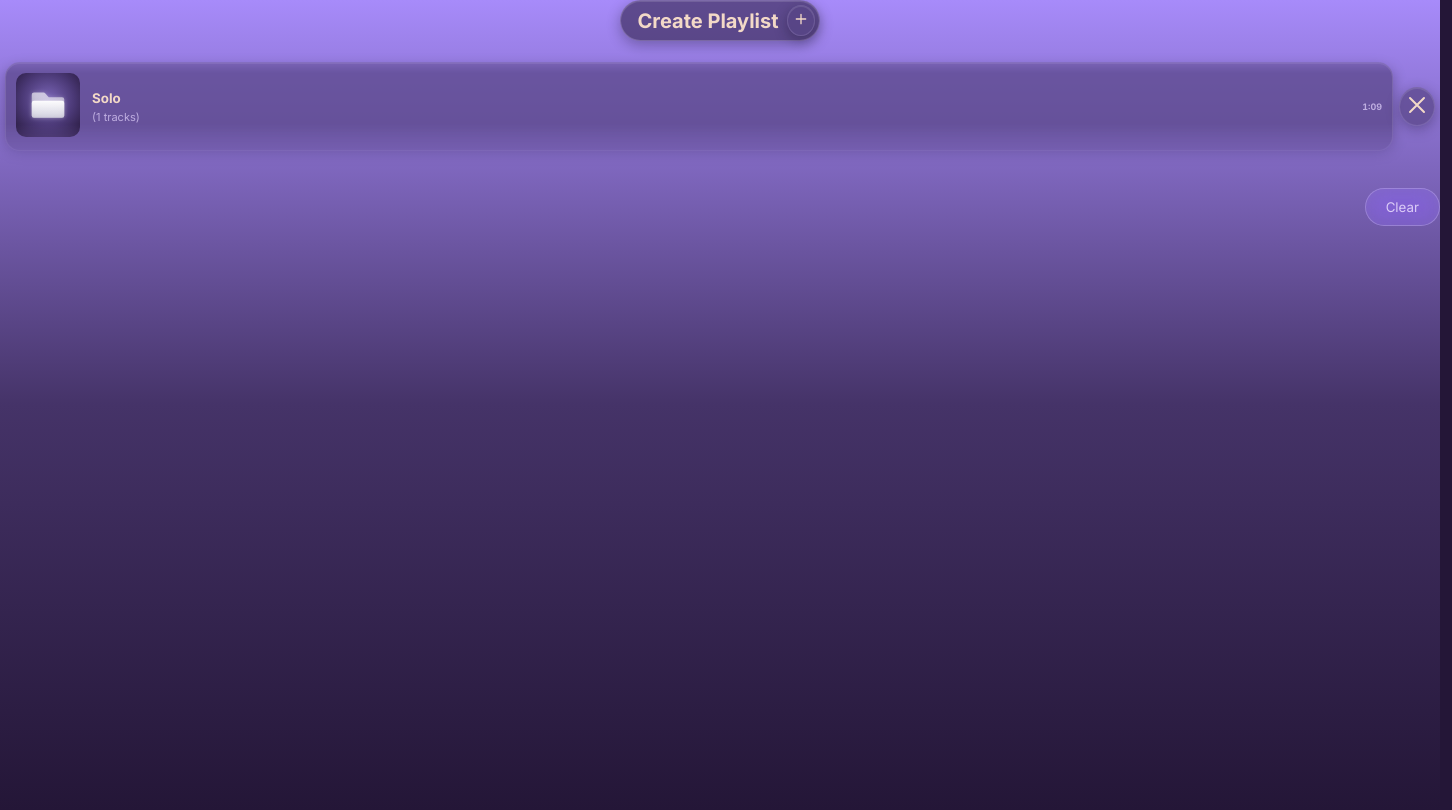
PlaylistSelectionList › opening a playlist › tracks have a favorite button and a more actions menu with a remove option
Click the button "Solo (1 tracks) 1:09" at (48, 105), box [5,62,1393,151]
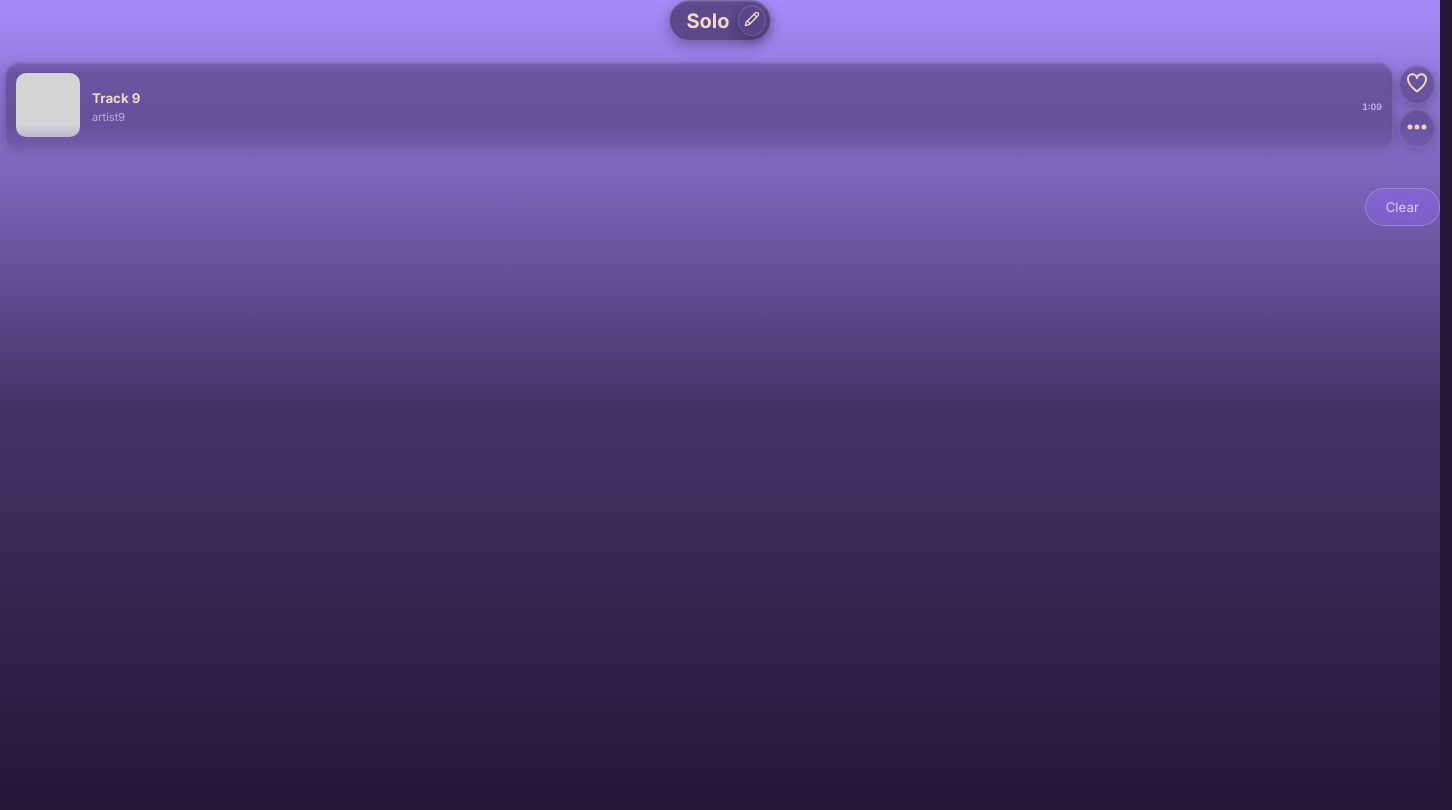
Result: the button named "Add to Favorites" is shown at [1399,65,1435,104]
Click the button named "More actions for Track 9" at (1417, 129), box [1399,109,1435,148]
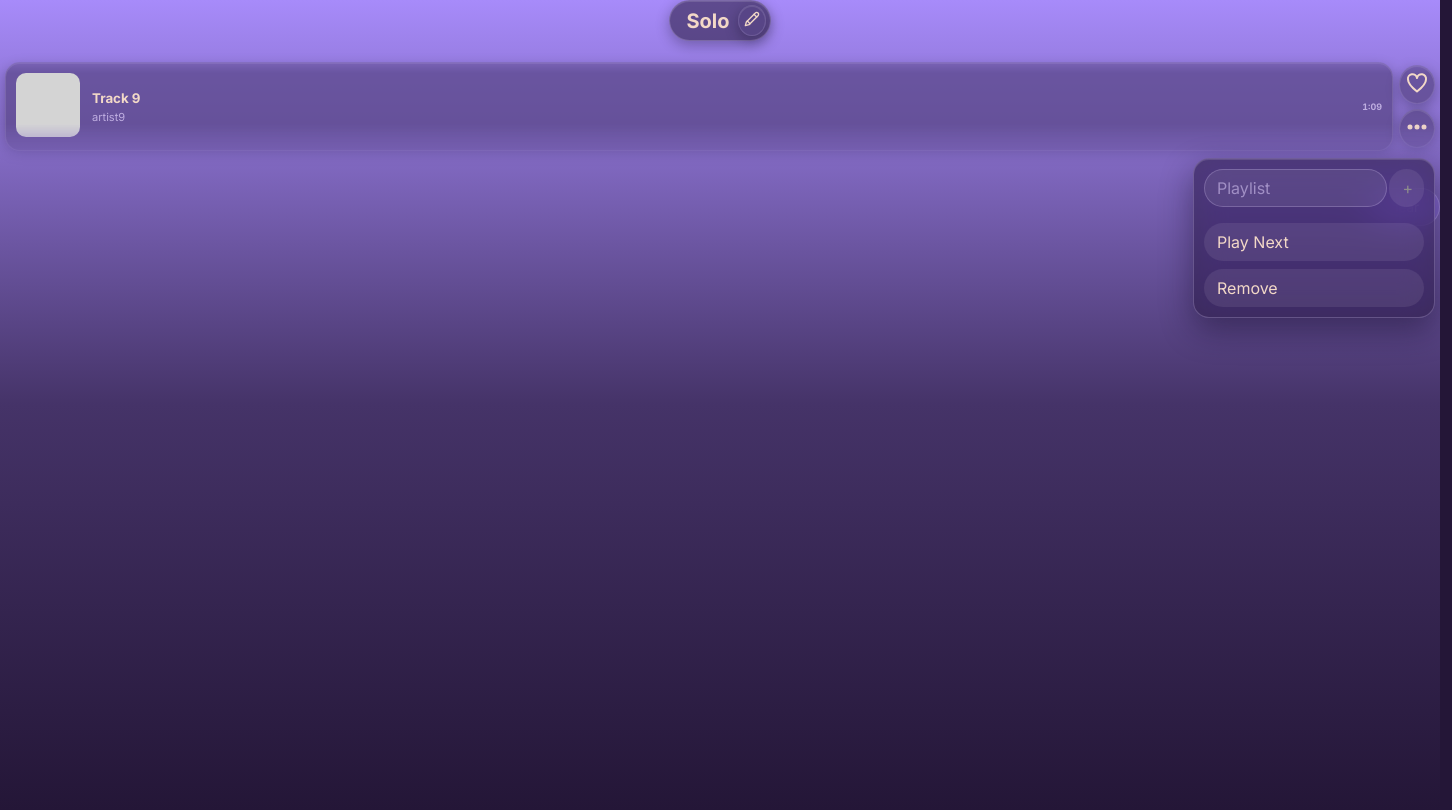
Result: the button "Remove" is shown at [1204,269,1424,307]
